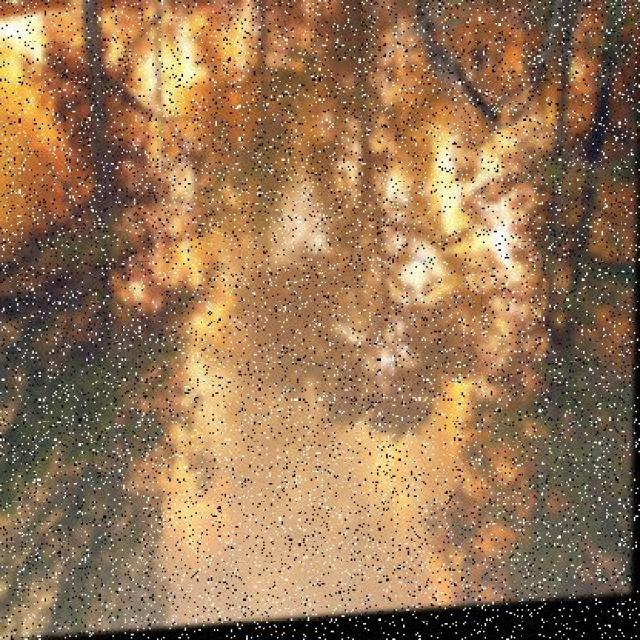fire: (1, 1, 503, 640)
